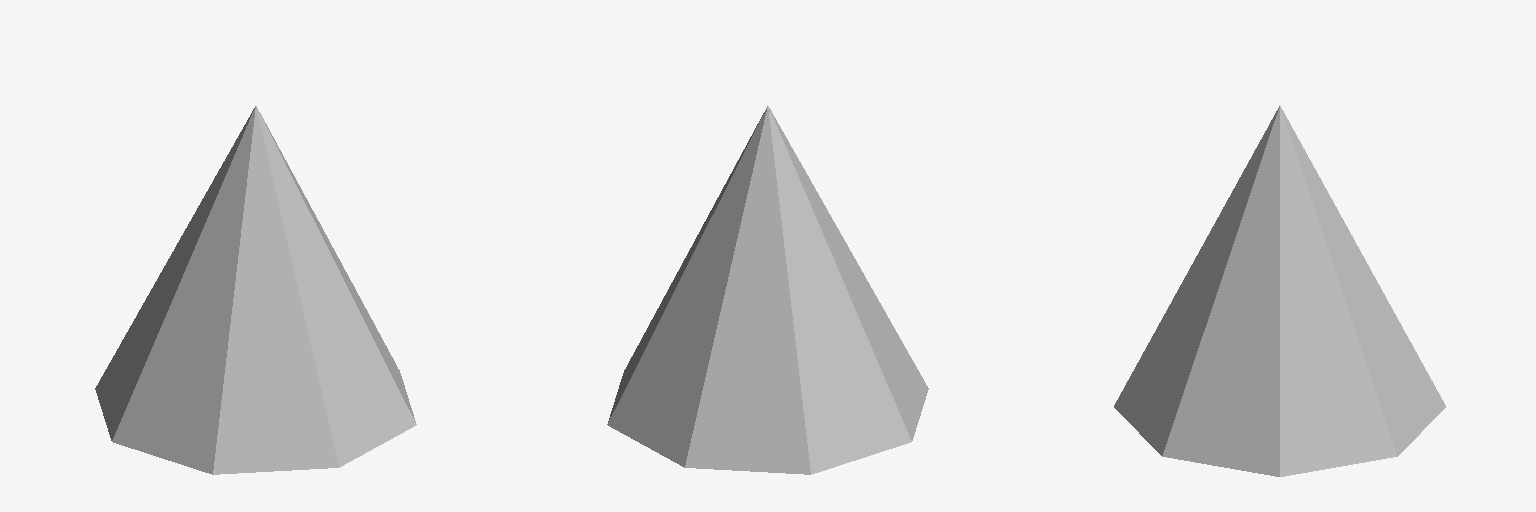
The model's file is missile_exhaust_flame.obj.
The picture shows the model from 3 angles: view 1: azimuth 30°, elevation 25°; view 2: azimuth 150°, elevation 25°; view 3: azimuth 270°, elevation 25°; orthographic projection.
Visible parts, largest first — view 1: Cone; view 2: Cone; view 3: Cone.
Part boxes in pixels (left/top/right/bottom): Cone: left=95, top=106, right=416, bottom=474; Cone: left=607, top=106, right=928, bottom=474; Cone: left=1114, top=106, right=1445, bottom=476.
Size of the model in its own units: 2 by 2 by 2.